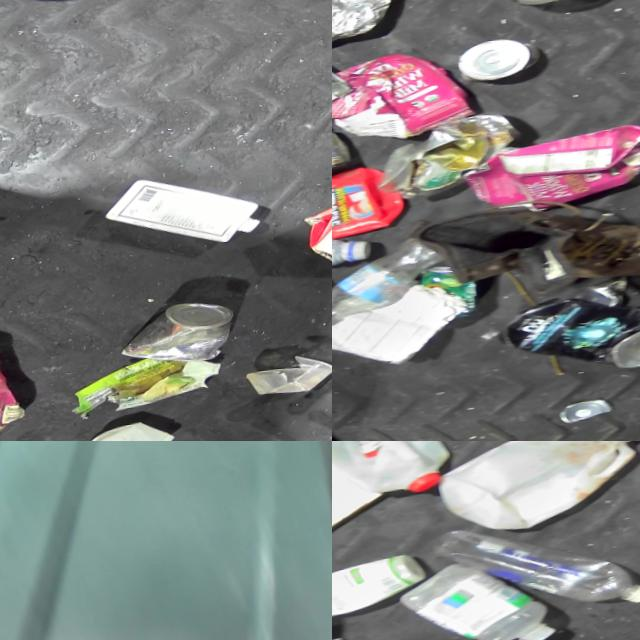can: (121, 304, 238, 376), (417, 111, 532, 177), (446, 29, 557, 97), (332, 53, 354, 129)
milk_jug: (440, 441, 640, 540), (104, 171, 270, 261), (332, 441, 462, 506)
non_white_jug: (332, 161, 426, 249), (300, 195, 332, 299)
plastic_bottle: (429, 512, 640, 631), (332, 233, 464, 337)
